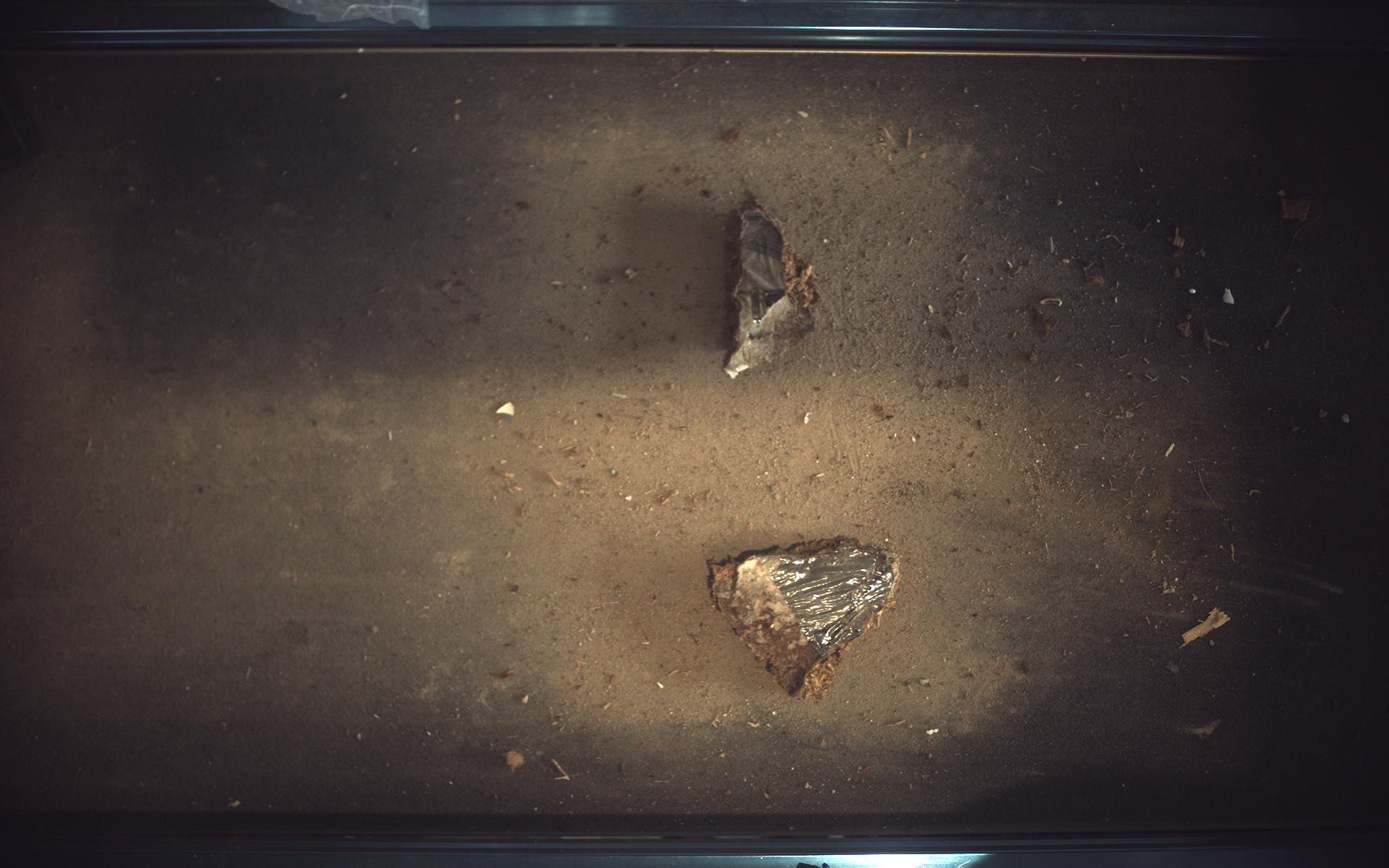wood: (712, 537, 901, 701), (726, 201, 820, 378)
